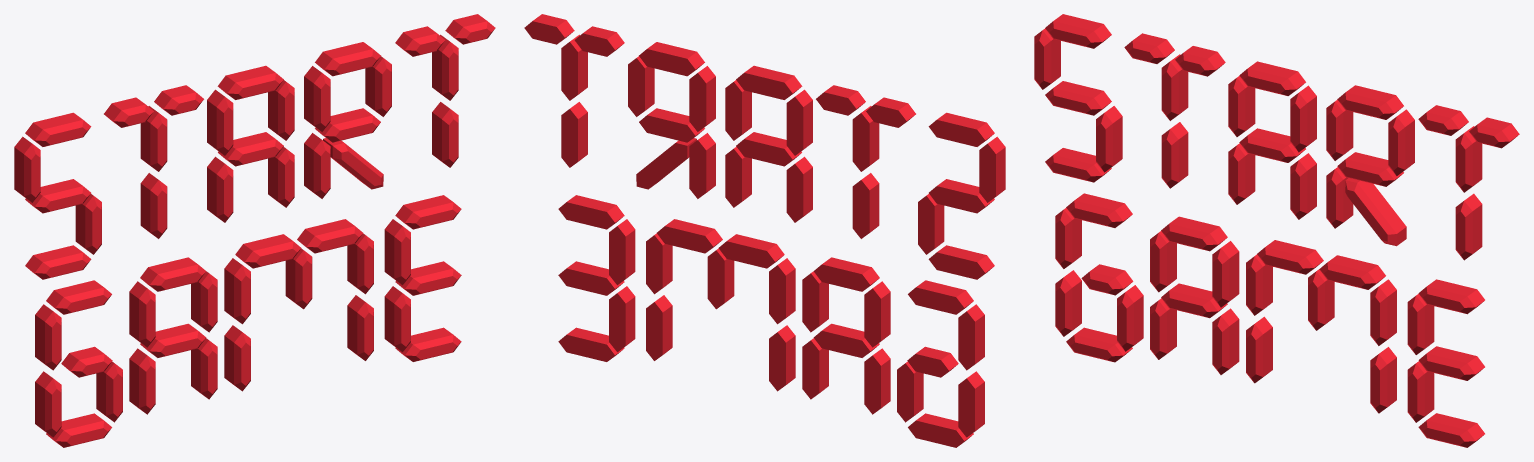
Rendered from StartGameLetters.fbx.
3 views of the same model, side by side, from view 1: azimuth 30°, elevation 25°; view 2: azimuth 150°, elevation 25°; view 3: azimuth 330°, elevation 25° (orthographic).
Parts seen in each view (by area): view 1: Segment.066, SegmentLeftTopOn.006, Segment.059, Segment.073, Segment.074, SegmentLeftBottomOn.006, SegmentLeftBottomOn.008, SegmentLeftTopOn.008, SegmentLeftBottomOn.007, SegmentLeftTopOn.007, Segment.072, Segment.081 (+37 smaller); view 2: Segment.066, SegmentLeftTopOn.006, Segment.059, Segment.073, Segment.074, SegmentLeftBottomOn.006, SegmentLeftBottomOn.008, SegmentLeftTopOn.008, SegmentLeftBottomOn.007, SegmentLeftTopOn.007, Segment.072, Segment.081 (+37 smaller); view 3: Slash Segment.004, SegmentLeftTopOn.009, Segment.063, Segment.066, SegmentLeftBottomOn.009, SegmentRightTopOn.006, Segment.062, SegmentRightTopOn.005, Segment.076, SegmentLeftBottomOn.006, Segment.070, Segment.081 (+37 smaller).
Part boxes in pixels (x1,y1,x2,y2): Segment.066: (140,173,167,238); SegmentLeftTopOn.006: (35,304,61,370); Segment.059: (14,136,40,202); Segment.073: (207,156,233,222); Segment.074: (207,89,233,155); SegmentLeftBottomOn.006: (35,371,61,437); SegmentLeftBottomOn.008: (384,286,410,352); SegmentLeftTopOn.008: (384,219,410,285); SegmentLeftBottomOn.007: (129,348,155,414); SegmentLeftTopOn.007: (129,281,155,347); Segment.072: (224,258,250,324); Segment.081: (347,295,373,360); Segment.066: (852,173,879,238); SegmentLeftTopOn.006: (958,304,984,370); Segment.059: (979,136,1005,202); Segment.073: (786,156,812,222); Segment.074: (786,89,812,155); SegmentLeftBottomOn.006: (958,371,984,437); SegmentLeftBottomOn.008: (609,286,635,352); SegmentLeftTopOn.008: (609,219,635,285); SegmentLeftBottomOn.007: (864,348,890,414); SegmentLeftTopOn.007: (864,281,890,347); Segment.072: (769,258,795,324); Segment.081: (646,295,672,360); Slash Segment.004: (1345,178,1406,246); SegmentLeftTopOn.009: (1212,241,1239,307); Segment.063: (1455,193,1482,260); Segment.066: (1161,122,1188,188); SegmentLeftBottomOn.009: (1212,308,1239,374); SegmentRightTopOn.006: (1117,285,1143,351); Segment.062: (1096,106,1122,172); SegmentRightTopOn.005: (1388,109,1414,175); Segment.076: (1290,153,1316,219); SegmentLeftBottomOn.006: (1055,270,1081,336); Segment.070: (1246,316,1272,383); Segment.081: (1370,347,1396,413).
Size of the model in its own units: 558 by 26.93 by 366.
